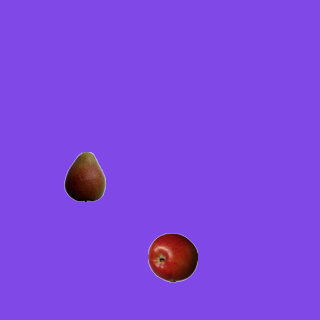Apple Braeburn: (147, 232, 197, 282)
Pear Forelle: (59, 151, 109, 201)
